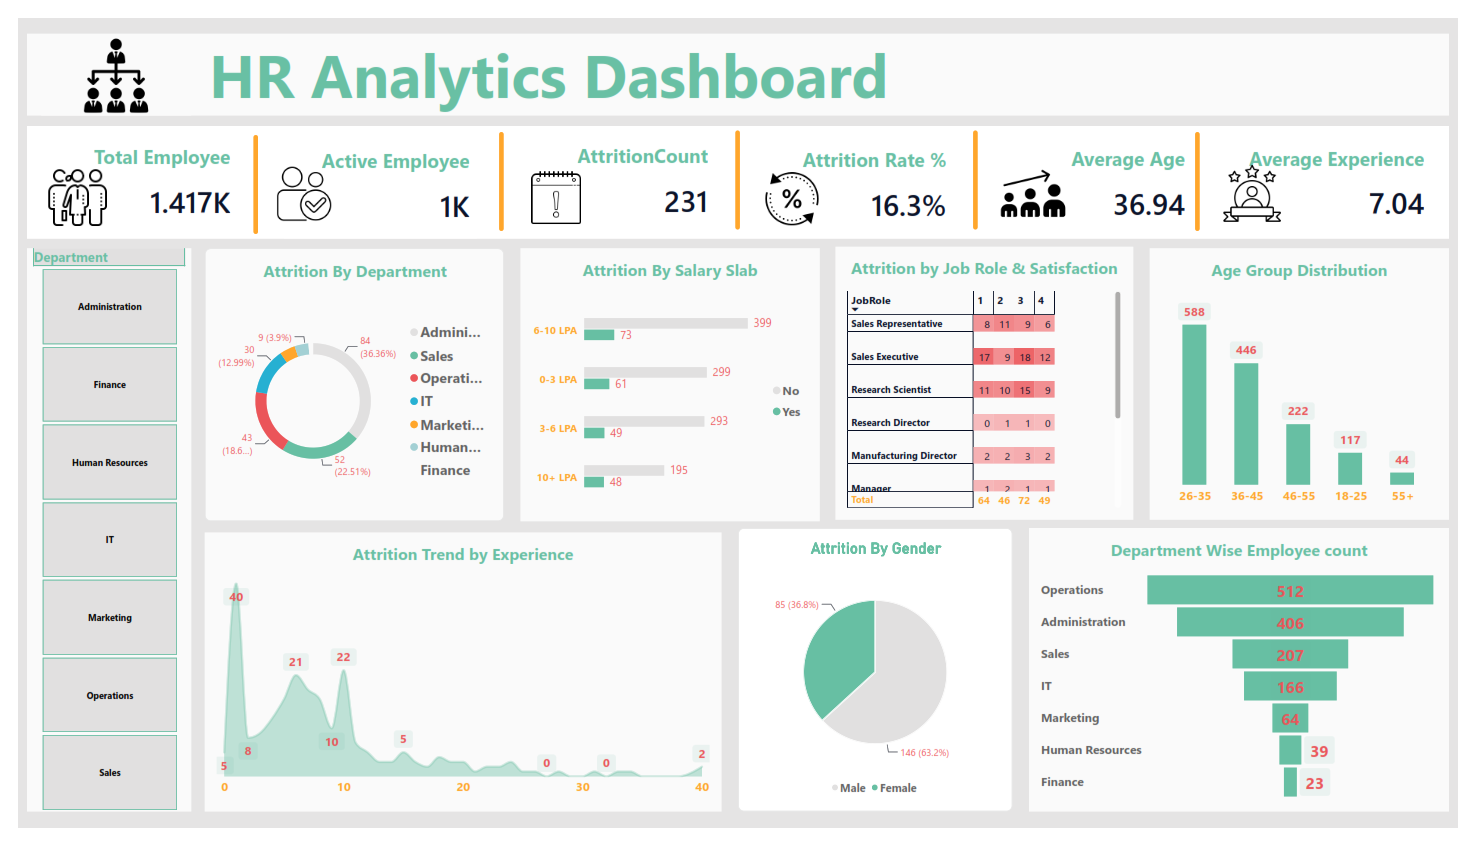

The page's visual inventory and layout, read from the dashboard file:
{"tool":"powerbi","page":{"name":"HR Analysis","canvas":[1920,1080],"ordinal":0},"visuals":[{"type":"textbox","box":[12.3,20.6,1895.7,109.1],"z":0},{"type":"image","box":[30.9,24.7,199.7,105],"z":1000},{"type":"shape","box":[12.3,144.1,1896,150],"z":2000},{"type":"cardVisual","fields":{"Data":["Avg(HR_Analytics-4.Age)"]},"box":[1302.3,154,270,137.9],"z":3000},{"type":"cardVisual","fields":{"Data":["HR_Analytics-4.Attrition Rate %"]},"box":[984.1,155.2,270,137.9],"z":4000},{"type":"cardVisual","fields":{"Data":["Sum(HR_Analytics-4.AttritionCount)"]},"box":[665.9,150.3,270,137.9],"z":5000},{"type":"cardVisual","fields":{"Data":["CountNonNull(HR_Analytics-4.EmpID)"]},"box":[29.5,151.5,270,137.9],"z":6000},{"type":"cardVisual","fields":{"Data":["Sum(HR_Analytics-4.EmployeeCount)"]},"box":[347.7,156.4,270,137.9],"z":7000},{"type":"cardVisual","fields":{"Data":["Avg(HR_Analytics-4.YearsatCompany)"]},"box":[1620.5,152.7,270,137.9],"z":8000},{"type":"shape","box":[265.5,156.4,102.9,131.7],"z":9000},{"type":"shape","box":[1521.1,152.3,102.9,131.7],"z":10000},{"type":"shape","box":[1224.7,150.3,102.9,131.7],"z":11000},{"type":"shape","box":[907.7,150.3,102.9,131.7],"z":12000},{"type":"shape","box":[596.9,152.3,94.7,131.7],"z":13000},{"type":"image","box":[28.8,189.4,100.9,100.9],"z":14000},{"type":"image","box":[983.9,197.6,94.7,86.4],"z":15000},{"type":"image","box":[331.4,183.2,100.9,100.9],"z":16000},{"type":"image","box":[666.9,189.4,100.9,100.9],"z":17000},{"type":"image","box":[1595.2,183.2,100.9,100.9],"z":18000},{"type":"image","box":[1302.9,183.2,100.9,100.9],"z":19000},{"type":"slicer","title":"Department ","fields":{"Values":["HR_Analytics-4.Department"]},"box":[12.3,306.7,218.2,751.3],"z":20000},{"type":"donutChart","title":"Attrition By Department","fields":{"Category":["HR_Analytics-4.Department"],"Y":["Sum(HR_Analytics-4.AttritionCount)"]},"box":[249.1,306.7,398.9,364.3],"z":20000,"group":"g1"},{"type":"group","id":"g1","title":"Group 1","box":[249.1,304.6,1659,753.3],"z":21000},{"type":"clusteredBarChart","title":"Attrition By Salary Slab","fields":{"Y":["CountNonNull(HR_Analytics-4.EmpID)"],"Category":["HR_Analytics-4.SalarySlab"],"Series":["HR_Analytics-4.Attrition"]},"box":[669.8,306.7,398.9,364.3],"z":21000,"group":"g1"},{"type":"pivotTable","title":"Attrition by Job Role & Satisfaction ","fields":{"Values":["Sum(HR_Analytics-4.AttritionCount)"],"Rows":["HR_Analytics-4.JobRole"],"Columns":["HR_Analytics-4.JobSatisfaction"]},"box":[1090.6,304.6,396.8,364.3],"z":22000,"group":"g1"},{"type":"columnChart","title":"Age Group Distribution ","fields":{"Category":["HR_Analytics-4.AgeGroup"],"Y":["Sum(HR_Analytics-4.EmployeeCount)"]},"box":[1509.2,306.7,398.9,362.3],"z":23000,"group":"g1"},{"type":"pieChart","title":"Attrition By Gender","fields":{"Y":["Sum(HR_Analytics-4.AttritionCount)"],"Category":["HR_Analytics-4.Gender"]},"box":[959.8,679.2,366.2,378.7],"z":24000,"group":"g1"},{"type":"areaChart","title":"Attrition Trend by Experience ","fields":{"Y":["Sum(HR_Analytics-4.AttritionCount)"],"Category":["HR_Analytics-4.TotalExperience(Years)"]},"box":[249.1,685.4,688.9,372.6],"z":25000,"group":"g1"},{"type":"funnel","title":"Department Wise Employee count ","fields":{"Category":["HR_Analytics-4.Department"],"Y":["CountNonNull(HR_Analytics-4.EmpID)"]},"box":[1347.8,679.2,560.3,378.7],"z":26000,"group":"g1"}]}

Visuals, with their boxes in screenshot pixels (x1, y1, x2, y2), scaled from the page's 1920x1080 canvas onto the 1476x846 screenshot:
textbox: 9,16,1467,102
image: 24,19,177,102
shape: 9,113,1467,230
cardVisual - Avg(HR_Analytics-4.Age): 1001,121,1209,229
cardVisual - HR_Analytics-4.Attrition Rate %: 757,122,964,230
cardVisual - Sum(HR_Analytics-4.AttritionCount): 512,118,719,226
cardVisual - CountNonNull(HR_Analytics-4.EmpID): 23,119,230,227
cardVisual - Sum(HR_Analytics-4.EmployeeCount): 267,123,475,231
cardVisual - Avg(HR_Analytics-4.YearsatCompany): 1246,120,1453,228
shape: 204,123,283,226
shape: 1169,119,1248,222
shape: 941,118,1021,221
shape: 698,118,777,221
shape: 459,119,532,222
image: 22,148,100,227
image: 756,155,829,222
image: 255,144,332,223
image: 513,148,590,227
image: 1226,144,1304,223
image: 1002,144,1079,223
"Department " slicer: 9,240,177,829
"Attrition By Department" donutChart: 191,240,498,526
"Group 1" group: 191,239,1467,829
"Attrition By Salary Slab" clusteredBarChart: 515,240,822,526
"Attrition by Job Role & Satisfaction " pivotTable: 838,239,1143,524
"Age Group Distribution " columnChart: 1160,240,1467,524
"Attrition By Gender" pieChart: 738,532,1019,829
"Attrition Trend by Experience " areaChart: 191,537,721,829
"Department Wise Employee count " funnel: 1036,532,1467,829
